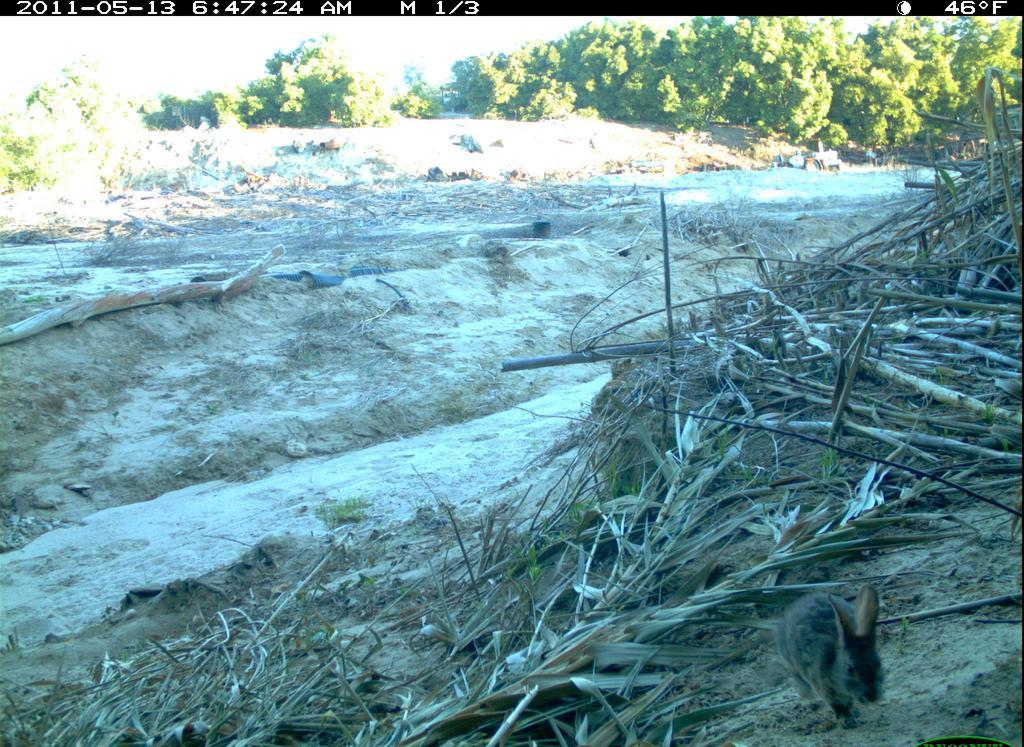rabbit: (774, 582, 889, 730)
